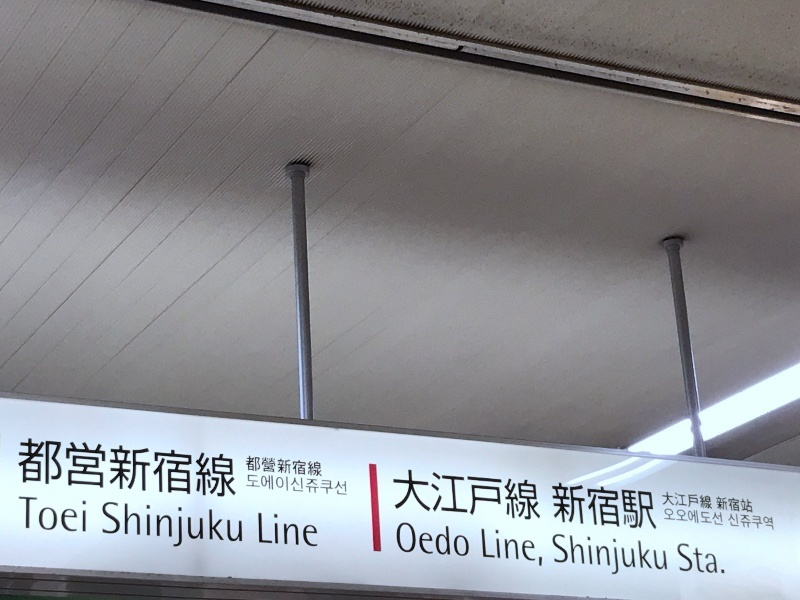text: (33, 436, 48, 503), (49, 436, 64, 503), (65, 436, 80, 503), (81, 436, 96, 503), (97, 436, 112, 503), (113, 436, 128, 503), (129, 436, 144, 503), (145, 436, 160, 503), (161, 436, 176, 503), (177, 436, 192, 503), (193, 436, 208, 503), (209, 436, 224, 503), (19, 436, 32, 503), (401, 467, 416, 520), (417, 467, 432, 520), (433, 467, 448, 520), (449, 467, 464, 520), (465, 467, 480, 520), (481, 467, 496, 520), (497, 467, 512, 520), (513, 467, 528, 520), (225, 436, 236, 503), (113, 502, 128, 551), (129, 502, 144, 551), (145, 502, 160, 551), (161, 502, 176, 551), (177, 502, 192, 551), (193, 502, 208, 551), (209, 502, 224, 551), (225, 502, 240, 551), (561, 482, 576, 531), (577, 482, 592, 531), (593, 482, 608, 531), (609, 482, 624, 531), (625, 482, 640, 531), (641, 482, 656, 531), (561, 535, 576, 575), (577, 535, 592, 575), (593, 535, 608, 575), (609, 535, 624, 575), (625, 535, 640, 575), (641, 535, 656, 575), (529, 467, 540, 520), (33, 497, 48, 533), (49, 497, 64, 533), (65, 497, 80, 533), (481, 530, 496, 566), (497, 530, 512, 566), (513, 530, 528, 566), (273, 513, 288, 547), (289, 513, 304, 547), (401, 523, 416, 557), (417, 523, 432, 557), (433, 523, 448, 557), (449, 523, 464, 557), (529, 530, 543, 566), (258, 513, 272, 547), (19, 497, 32, 533), (689, 544, 704, 574), (705, 544, 720, 574), (103, 502, 112, 551), (657, 535, 668, 575), (305, 513, 317, 547), (552, 482, 560, 531), (677, 544, 688, 574), (257, 474, 272, 496), (273, 474, 288, 496), (289, 474, 304, 496), (305, 474, 320, 496), (321, 474, 336, 496), (394, 467, 400, 520), (257, 455, 272, 476), (273, 455, 288, 476), (289, 455, 304, 476), (305, 455, 320, 476), (553, 535, 560, 575), (737, 496, 753, 513), (673, 492, 688, 509), (689, 492, 704, 509), (721, 496, 736, 513), (673, 509, 688, 526), (689, 509, 704, 526), (705, 509, 720, 526), (737, 514, 752, 531), (753, 514, 768, 531), (337, 474, 347, 496), (247, 474, 256, 496), (247, 455, 256, 476), (81, 497, 86, 533), (662, 492, 672, 509), (465, 523, 469, 557), (664, 509, 672, 526), (728, 514, 736, 531), (705, 492, 712, 509), (241, 502, 243, 551), (721, 544, 724, 574), (769, 514, 774, 531), (398, 523, 400, 557), (716, 496, 720, 513), (721, 509, 723, 526), (321, 455, 322, 476)
